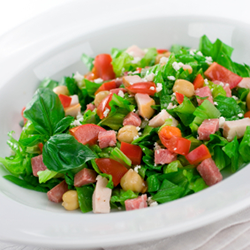chopped lettuce: (29, 51, 244, 197)
